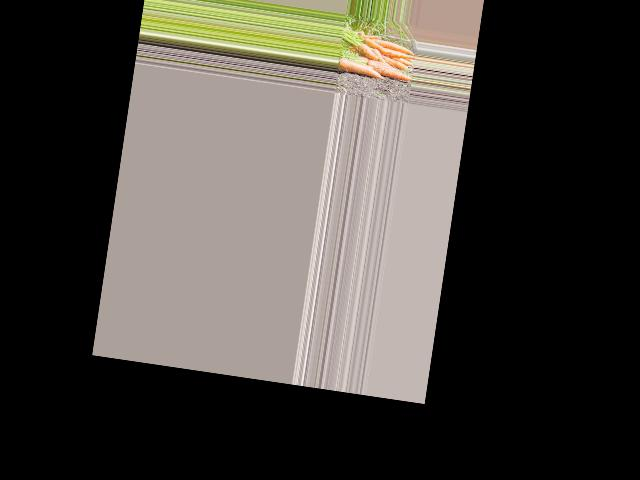carrot: (361, 37, 417, 59)
